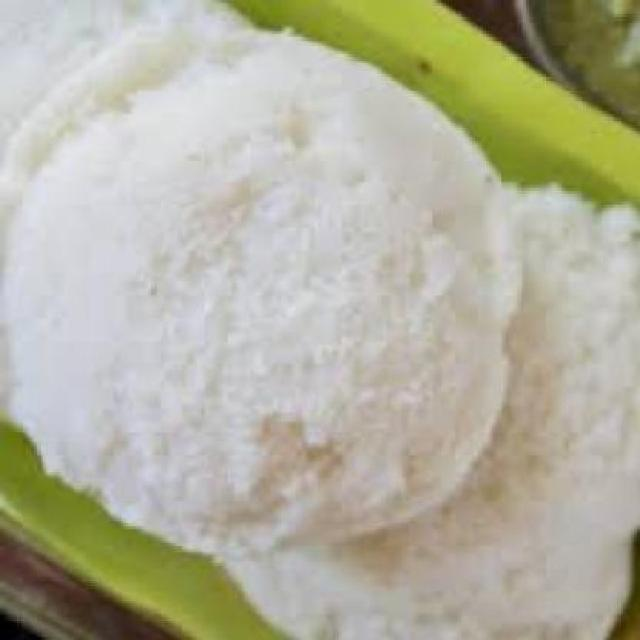idli: (0, 0, 520, 554), (207, 184, 640, 640)
